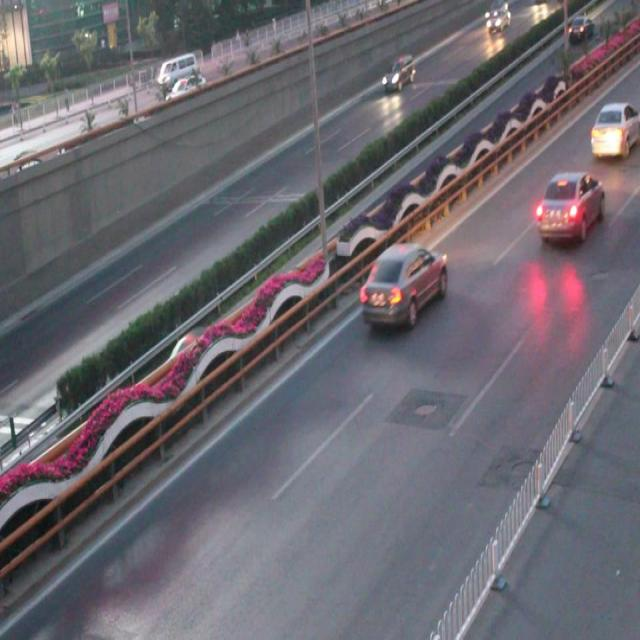car: (361, 240, 446, 324), (534, 170, 606, 242), (589, 104, 640, 158), (168, 324, 212, 373), (378, 52, 414, 93)
